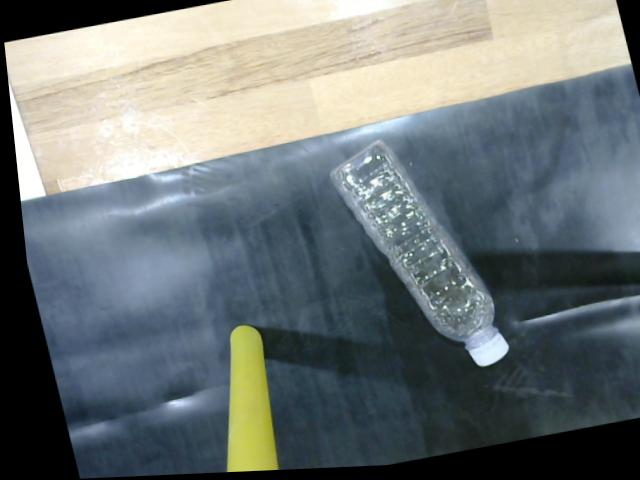bottle: (324, 135, 521, 379)
